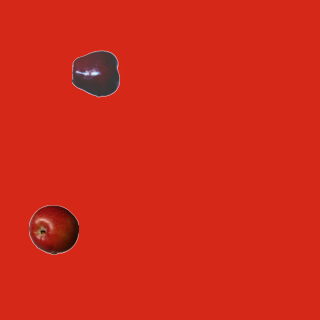Apple Braeburn: (28, 204, 78, 254)
Apple Red Delicious: (71, 48, 121, 98)
